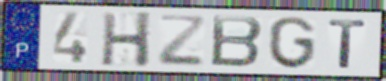4: (51, 10, 89, 66)
B: (208, 14, 265, 70)
G: (267, 15, 317, 71)
H: (100, 11, 155, 70)
T: (326, 17, 369, 70)
Z: (156, 13, 208, 68)
